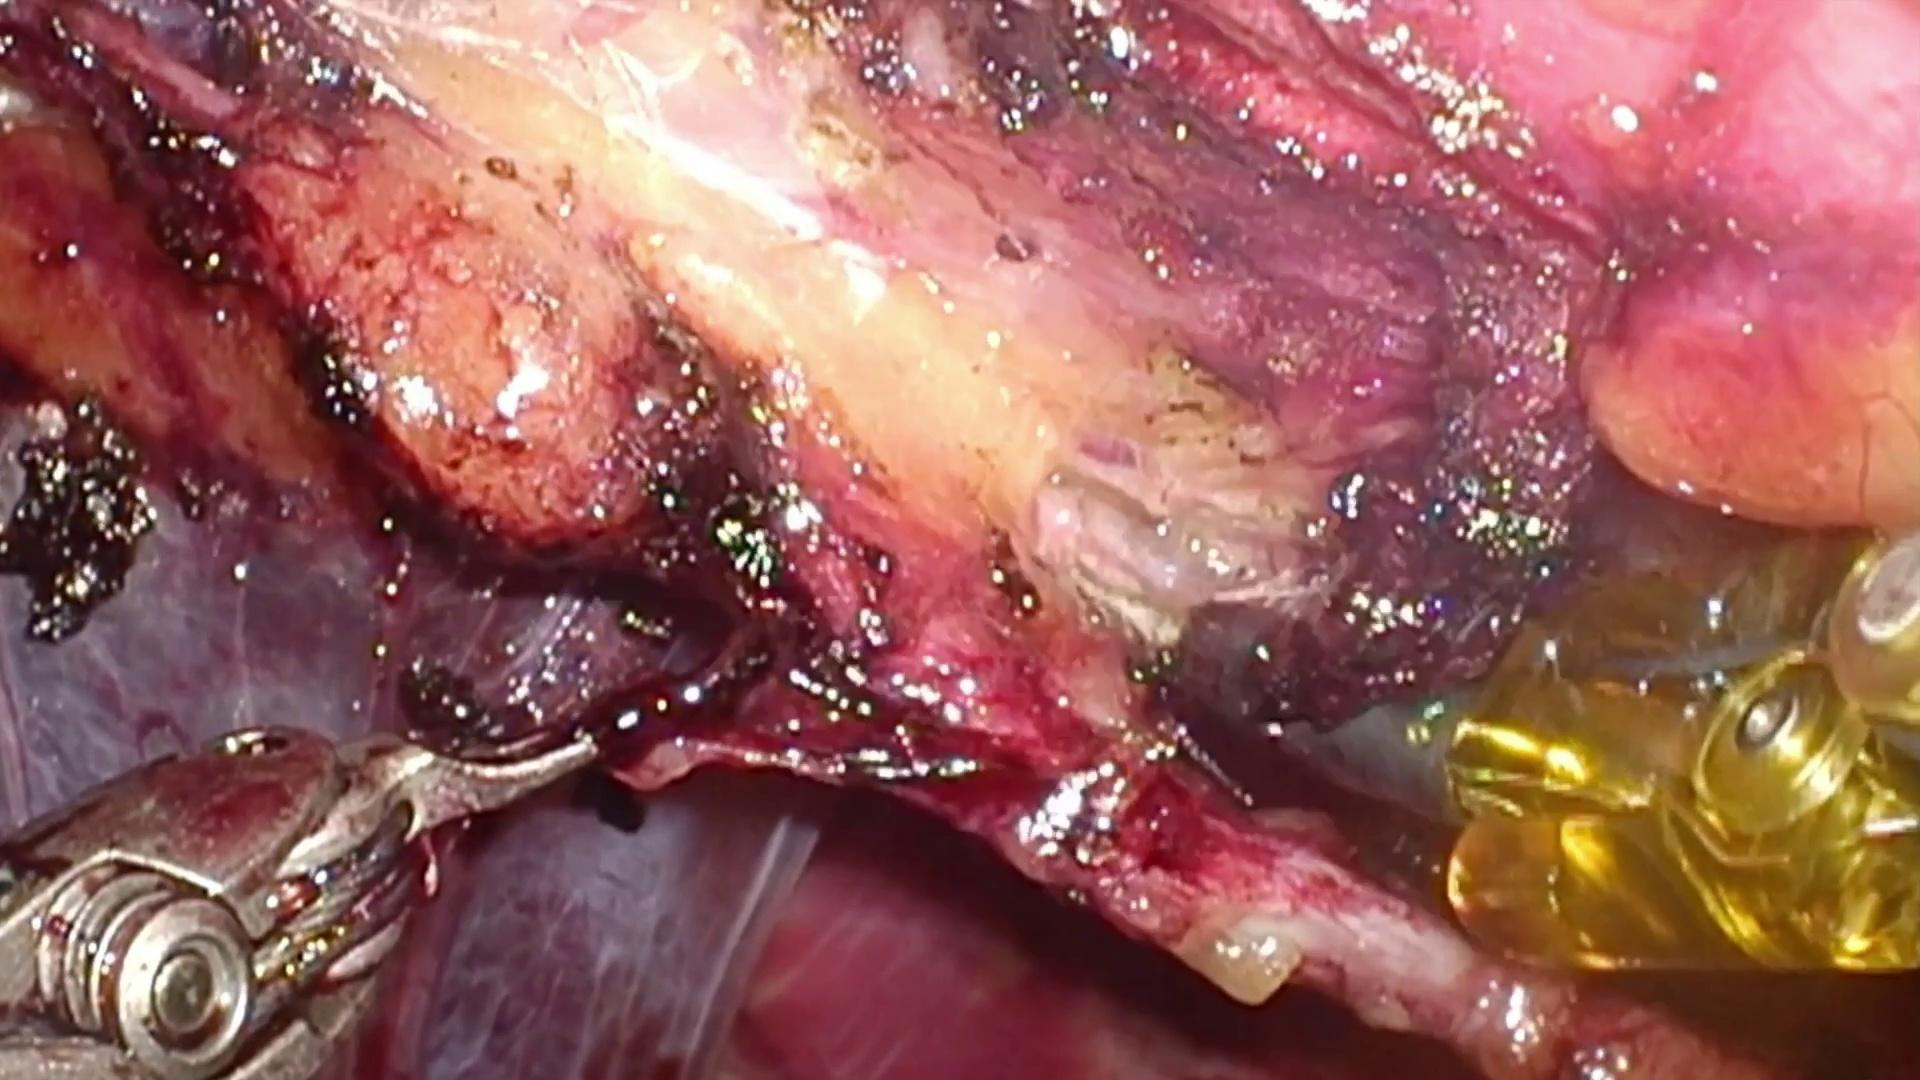Cautery_Spatula: (1145, 596, 1465, 828)
Debakey: (344, 624, 611, 841)
